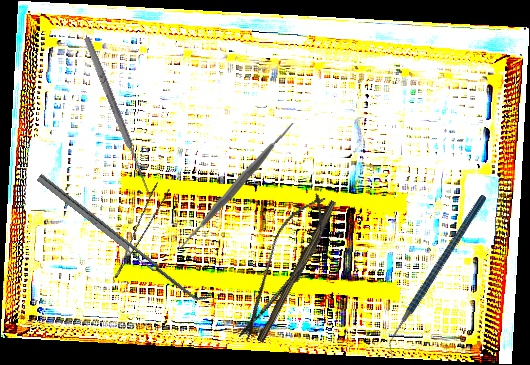Chopper: (345, 194, 529, 359)
Hook Surgical: (81, 33, 161, 198)
Micro Scissor: (226, 185, 339, 350)
Scalpel Handle: (256, 198, 340, 346)
Spatula Surgical: (36, 167, 210, 308), (170, 118, 304, 252)
Tissue Forceps: (99, 181, 175, 279)
